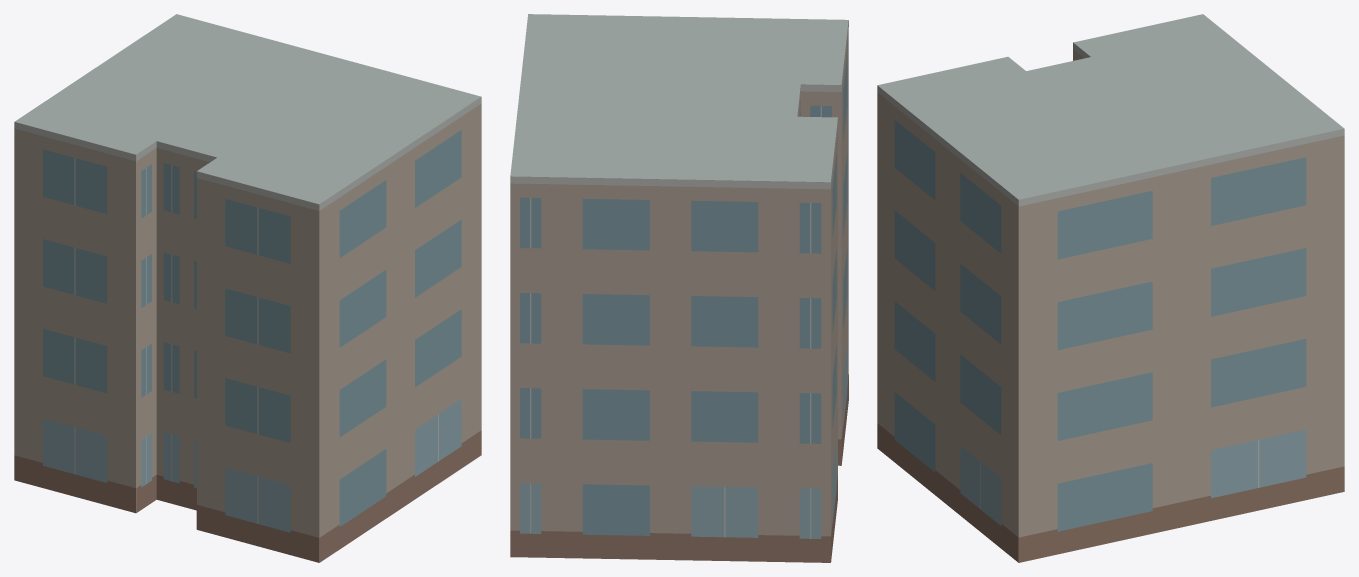
The model's file is survey-upis-32746786.glb.
3 views of the same model, side by side, from view 1: azimuth 30°, elevation 25°; view 2: azimuth 150°, elevation 25°; view 3: azimuth 270°, elevation 25° (orthographic). The views are drawn at different scales.
Visible parts, largest first — view 1: survey-upis-32746786.tmp; view 2: survey-upis-32746786.tmp; view 3: survey-upis-32746786.tmp.
Boxes of the visible parts, <box> form: survey-upis-32746786.tmp: <box>14,14,481,562</box>; survey-upis-32746786.tmp: <box>510,14,848,562</box>; survey-upis-32746786.tmp: <box>877,14,1344,562</box>.
Bounding box in the file's own units: 14.5 × 13.2 × 15.41.
